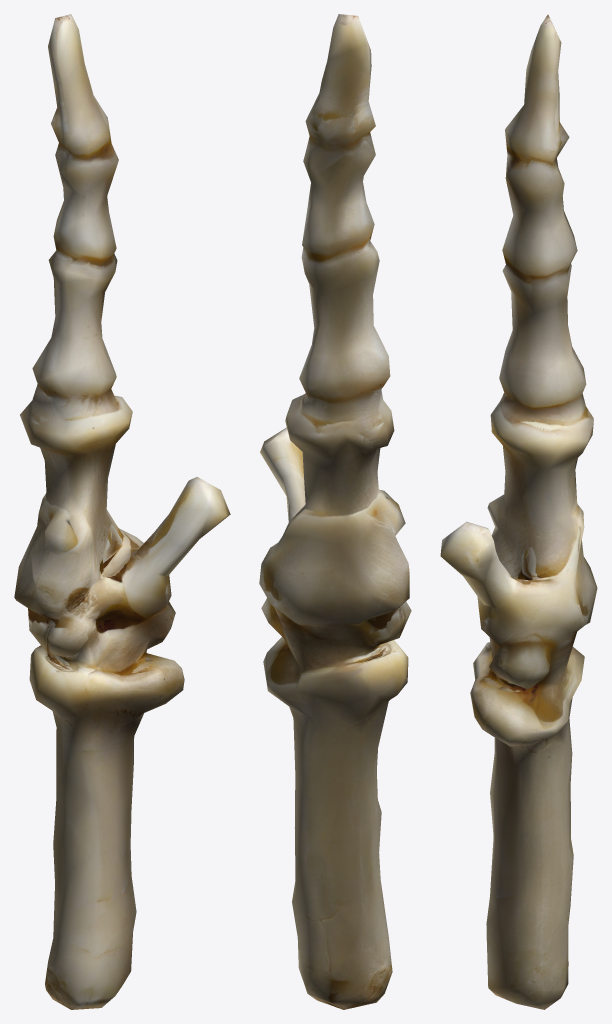
3 views of the same model, side by side, from view 1: azimuth 30°, elevation 25°; view 2: azimuth 150°, elevation 25°; view 3: azimuth 270°, elevation 25° (orthographic). The views are drawn at different scales.
Visible parts, largest first — view 1: Mesh1.0; view 2: Mesh1.0; view 3: Mesh1.0.
Part boxes in pixels (x1=…): Mesh1.0: x1=14, y1=14, x2=230, y2=1009; Mesh1.0: x1=259, y1=14, x2=411, y2=1009; Mesh1.0: x1=440, y1=14, x2=597, y2=1009.
Bounding box in the file's own units: 37.55 × 200 × 29.23.
1 material, 1 textured.
